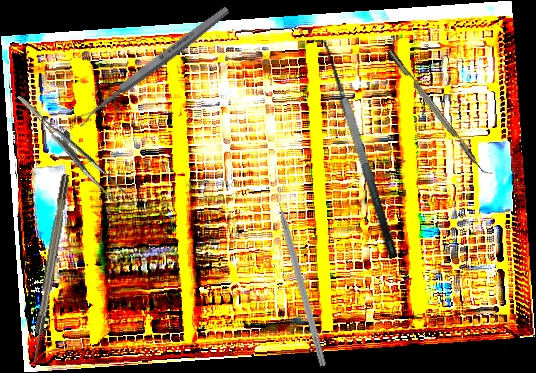Chopper: (387, 43, 495, 181), (271, 181, 336, 368)
Hook Surgical: (28, 173, 72, 366)
Spatula Surgical: (305, 33, 401, 265)
Surgical Spoon: (73, 4, 232, 128)
Tissue Forceps: (17, 79, 128, 214)
